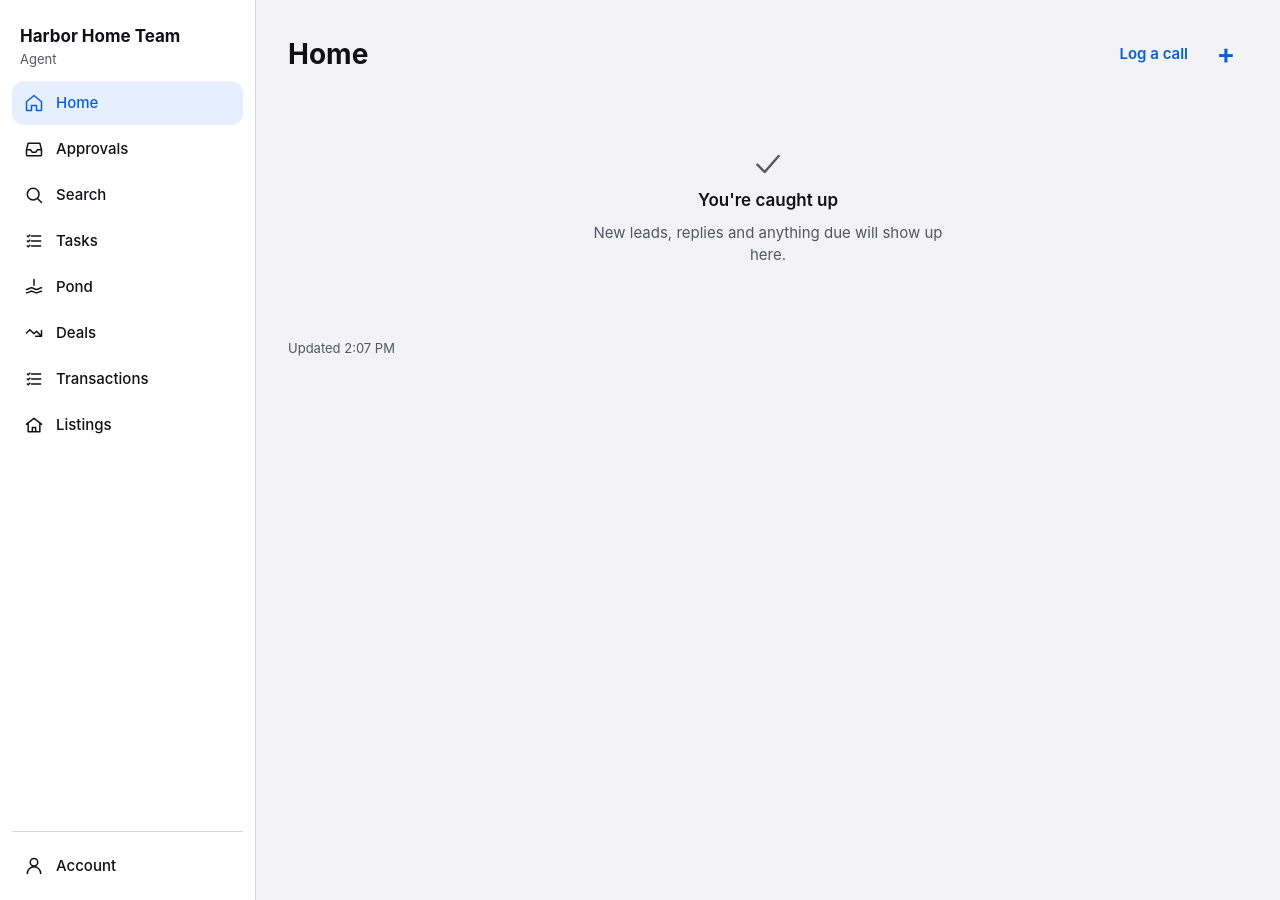
Test case: R-TODAY-9: "Log a call or conversation" from any screen › E851: a double tap on the one button makes one record: one request, one client id
The width and height of the screenshot is (1280, 900).
Step 1. Click the button with aria-label "Log a call or conversation" → (1154,54), box x1=1112 y1=32 x2=1196 y2=76
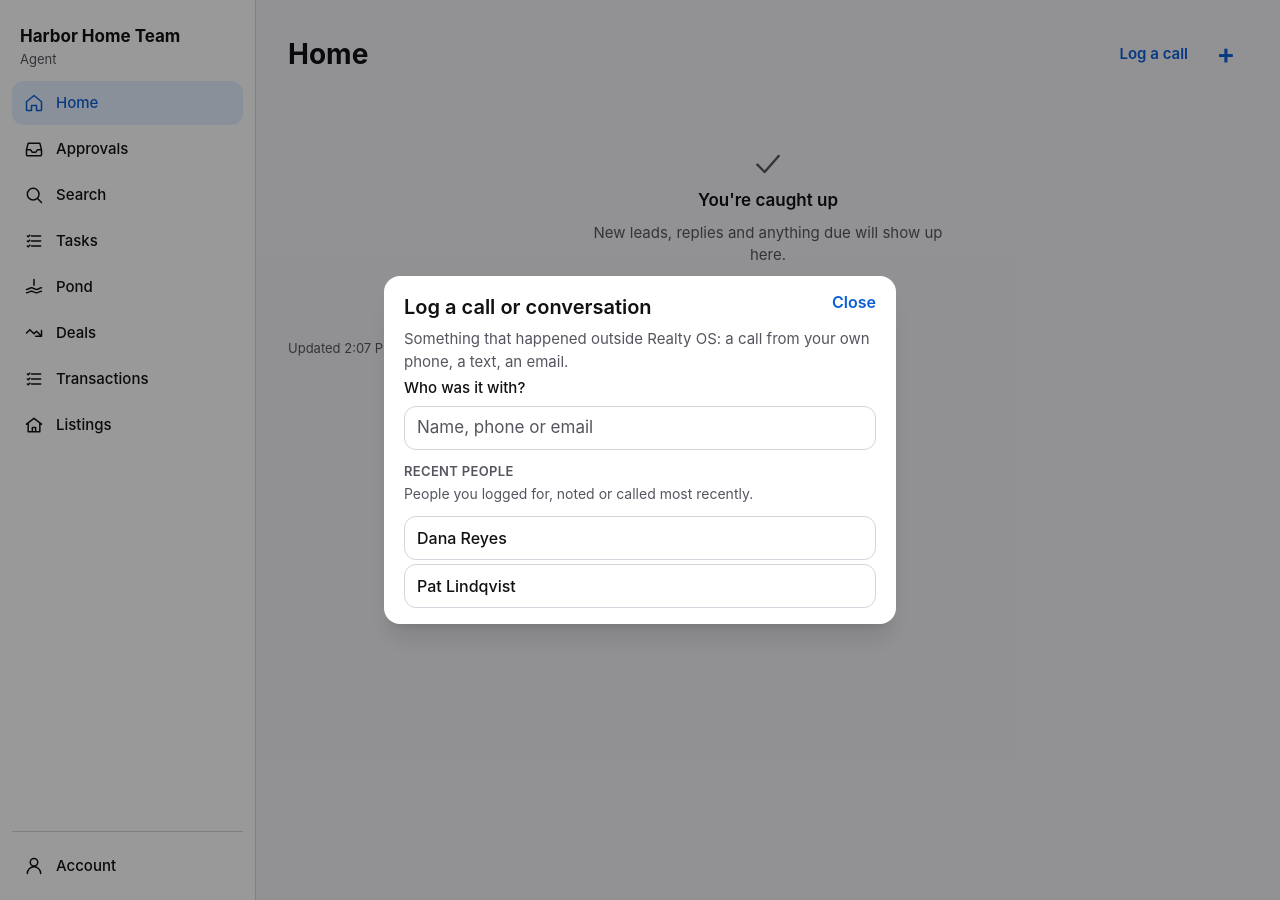
Step 2. Click the button with aria-label "Log for Pat Lindqvist" → (466,586), box x1=404 y1=564 x2=876 y2=608
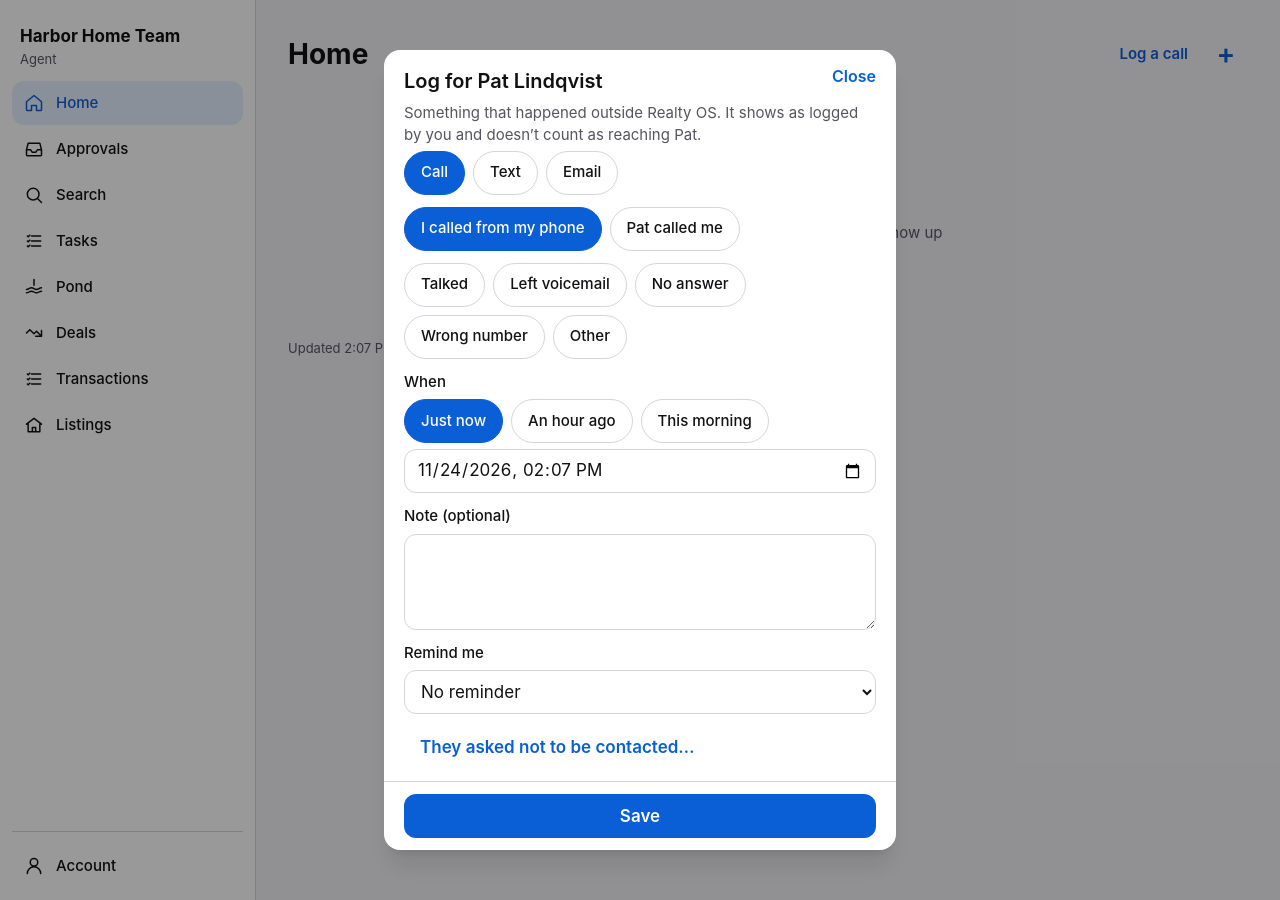
Step 3. Click the button "No answer" → (690,285), box x1=635 y1=263 x2=746 y2=307
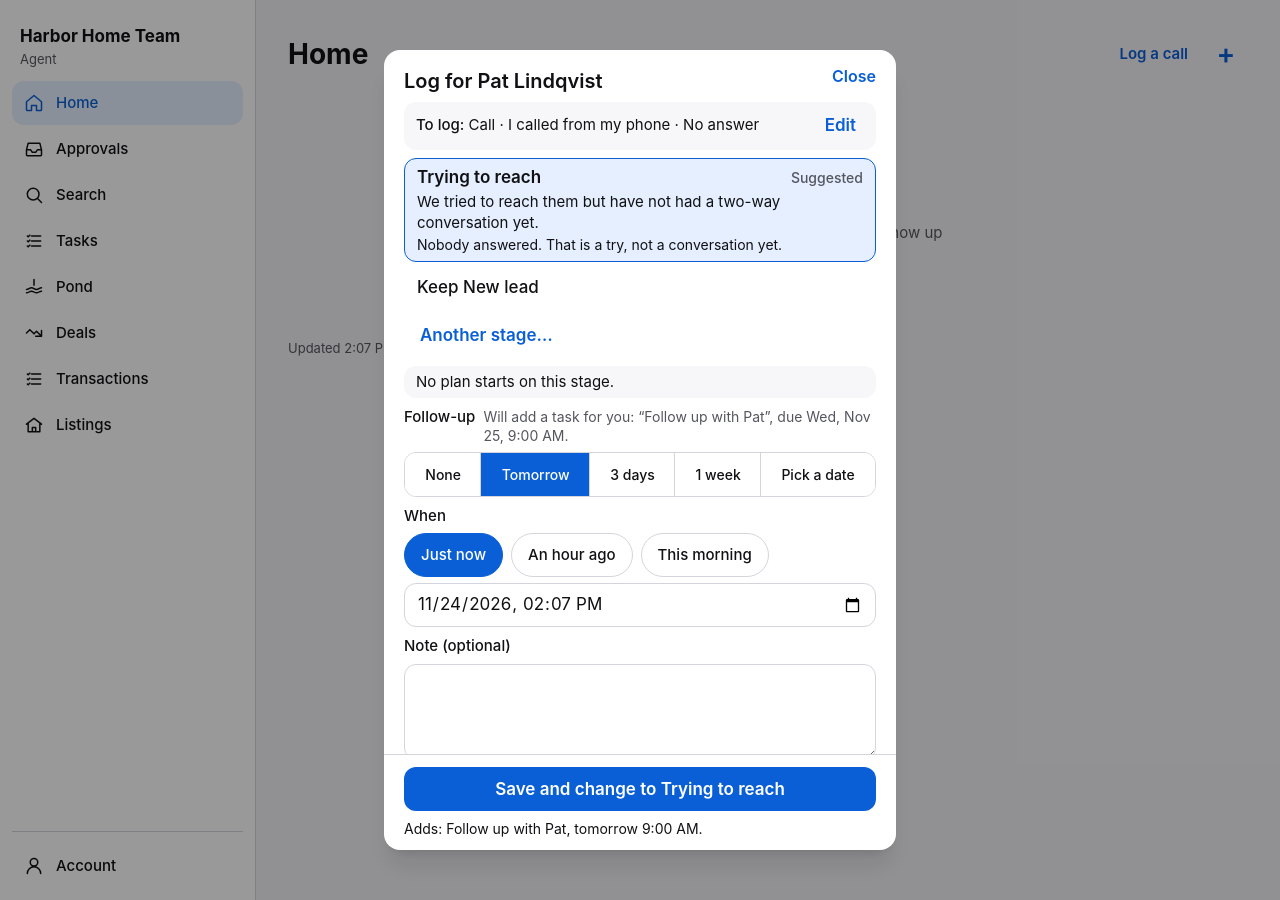
Expected: the button "Save and change to Trying to reach" is enabled
Step 4. Double-click the button "Save and change to Trying to reach" → (640,789), box x1=404 y1=767 x2=876 y2=811
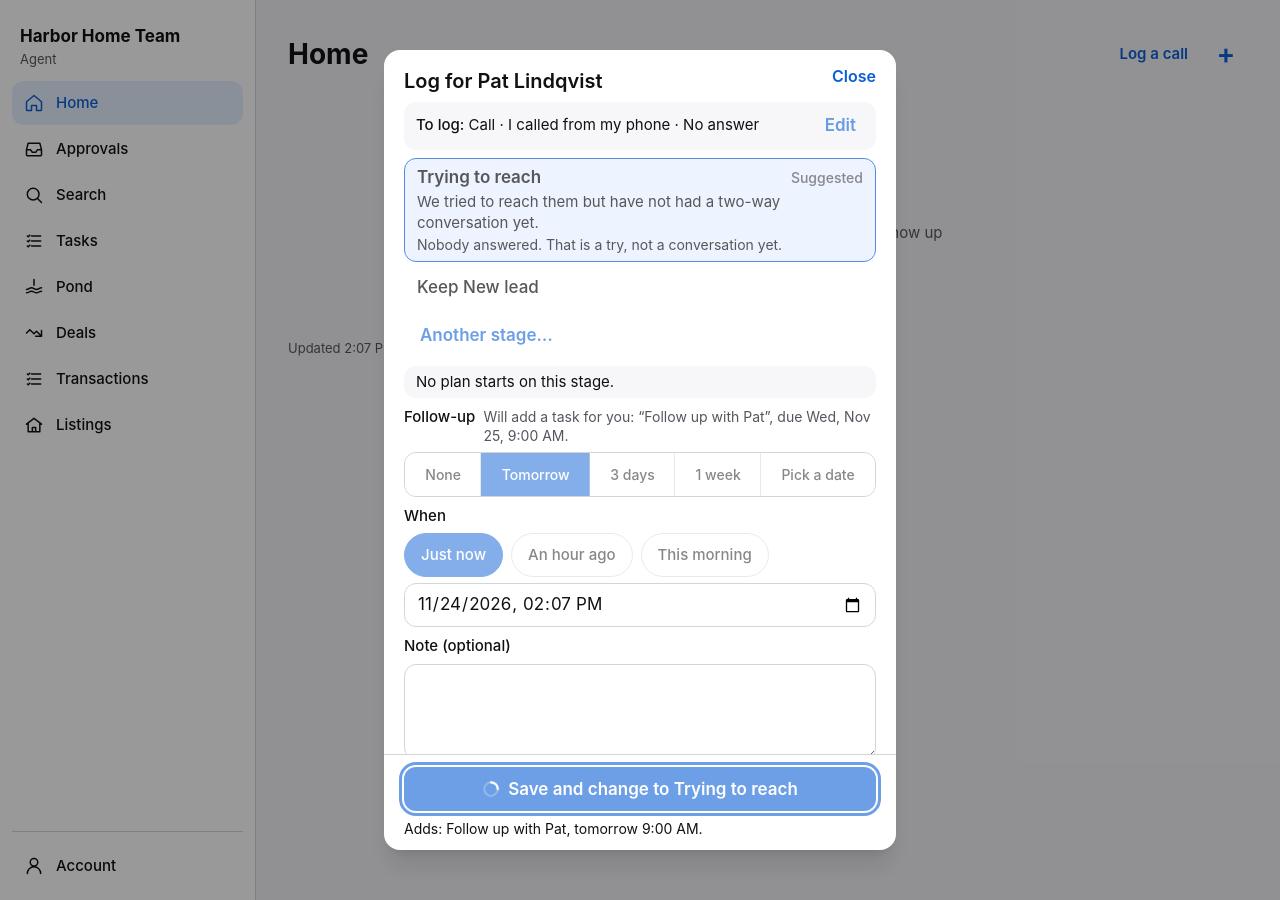
Step 5. Click the button "Save and change to Trying to reach" → (640,789), box x1=404 y1=767 x2=876 y2=811
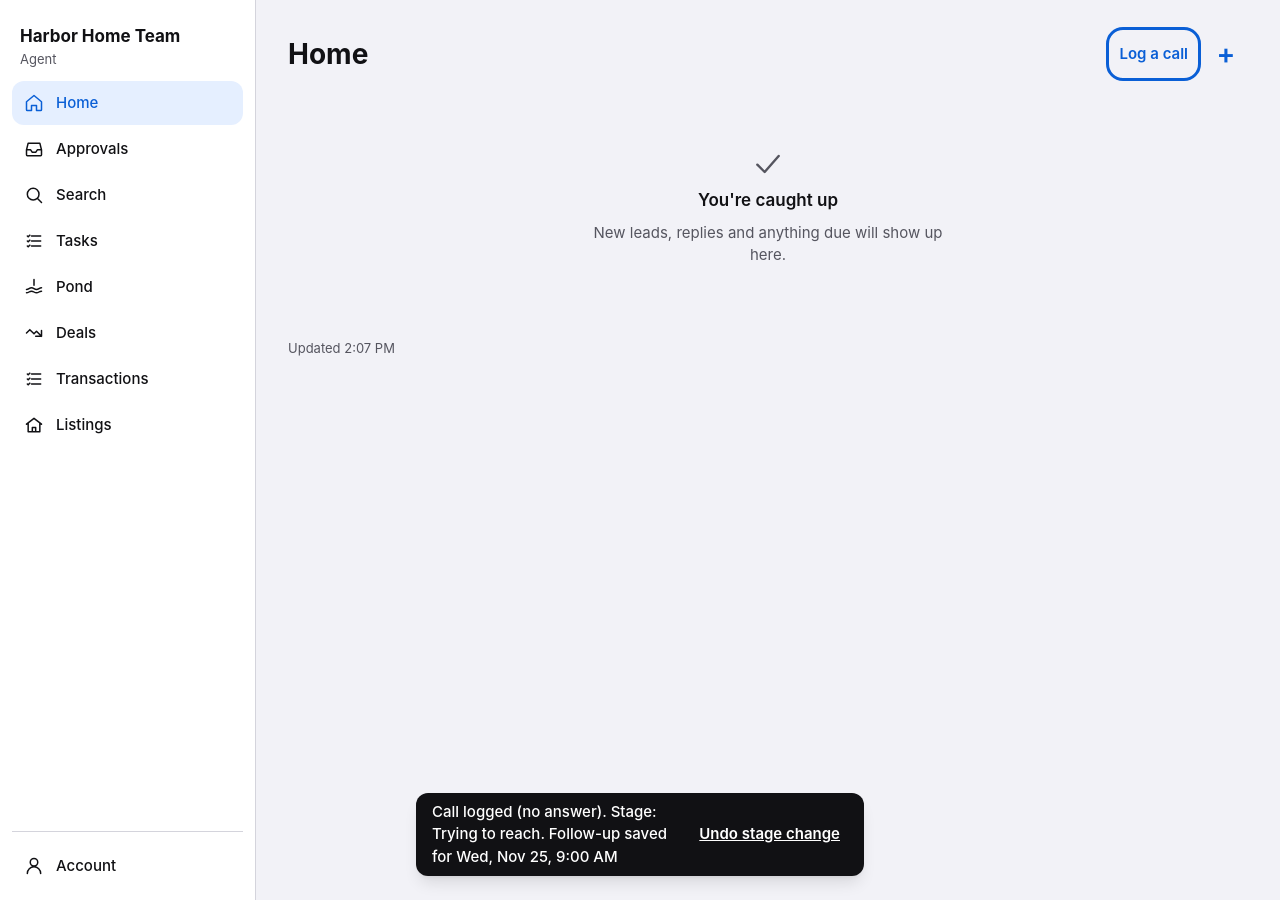
Expected: the dialog is gone
